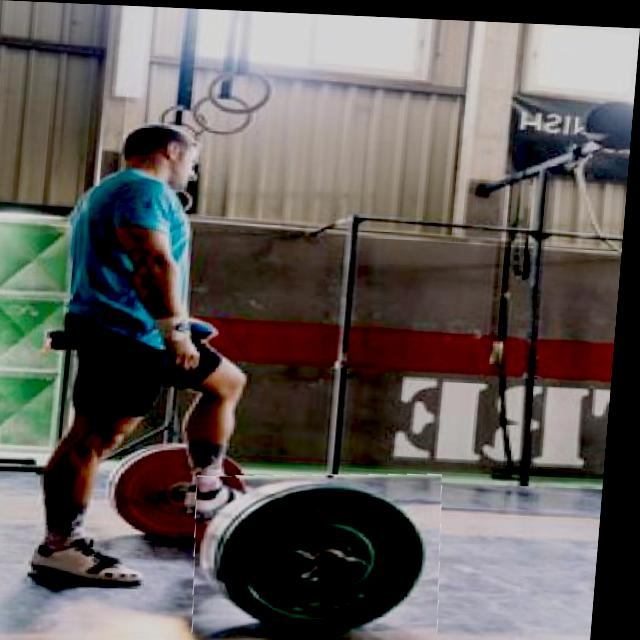barbell: (198, 465, 457, 640)
